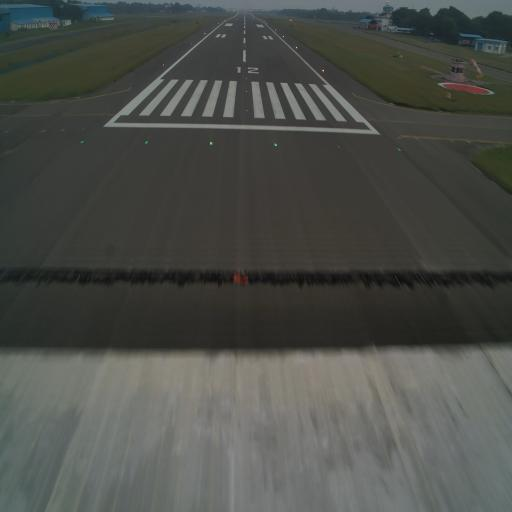off: (336, 142, 342, 151)
on: (395, 145, 403, 155), (272, 141, 279, 150), (79, 139, 86, 147), (144, 138, 151, 146), (209, 140, 214, 148), (321, 67, 325, 74), (245, 108, 248, 114), (245, 88, 248, 94), (162, 62, 165, 68), (246, 74, 248, 82)
